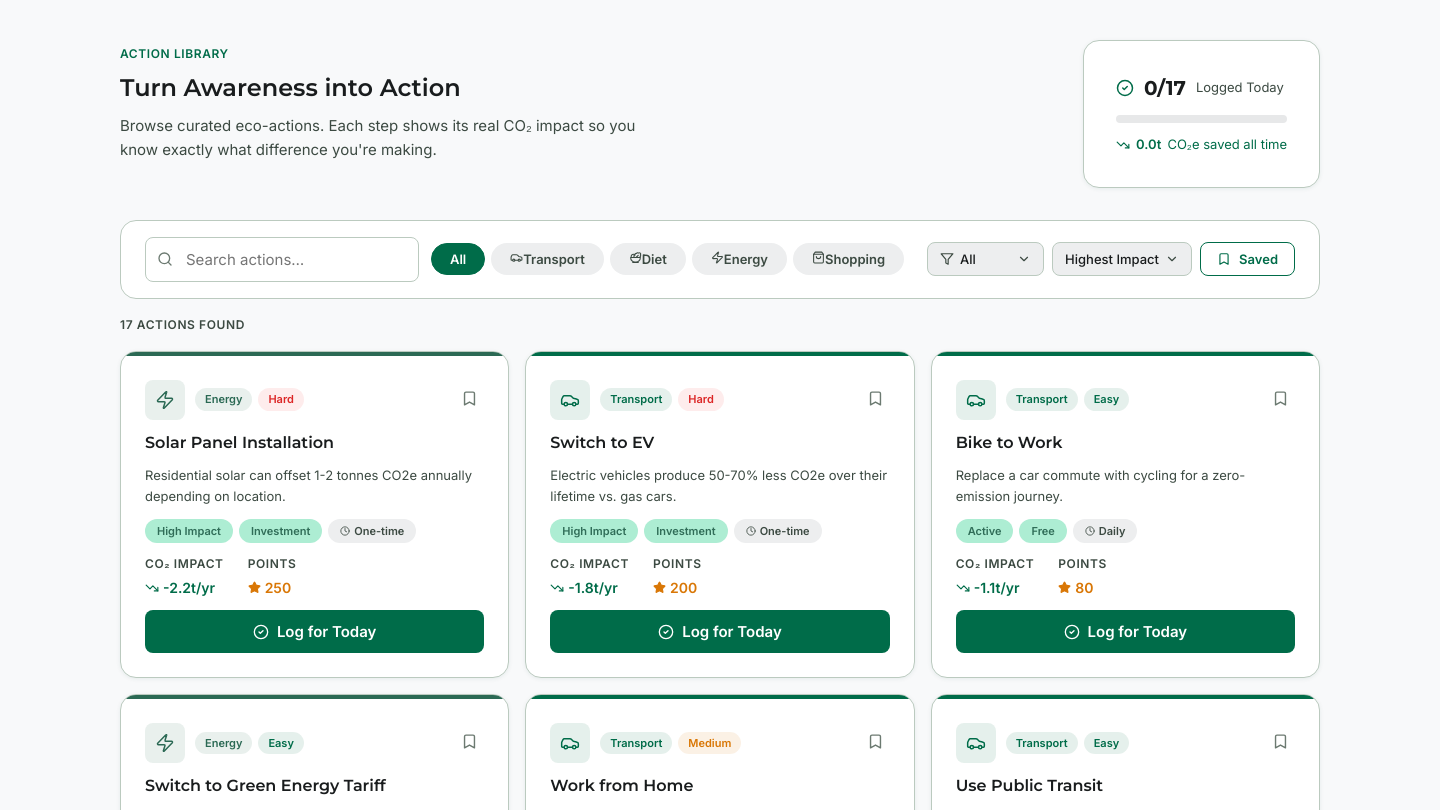
Test: ActionLibrary page › shows empty state when search has no matches
Type "xyzNOT_FOUND" into the field labelled "Search actions…" at (282,259), box [145, 236, 419, 282]
Wait 300 ms
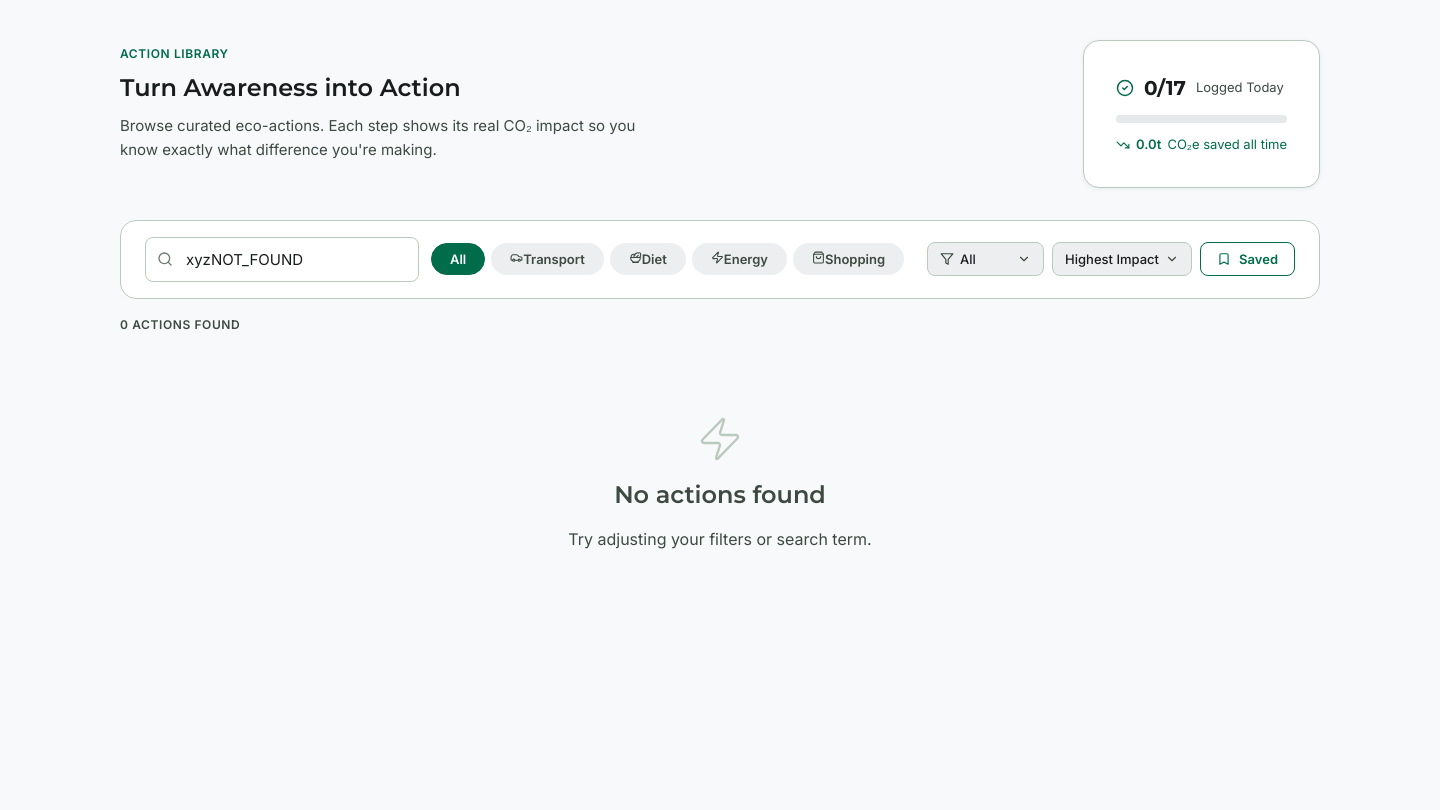
Check: the heading "No actions found" is shown, box [614, 478, 826, 511]
